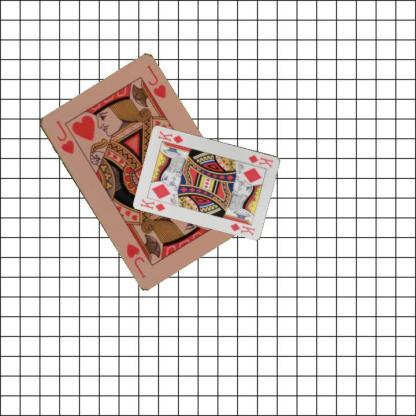Jh: (53, 117, 75, 156)
Kd: (138, 195, 166, 213), (246, 152, 275, 169)
